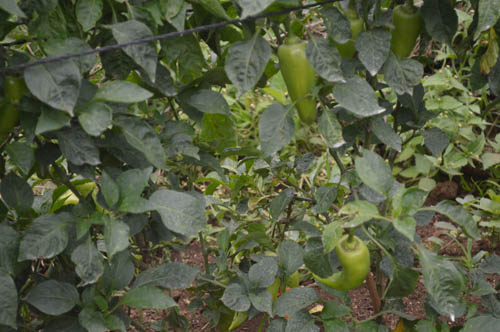ChiliPepper: (315, 239, 371, 293), (282, 42, 318, 121), (387, 8, 423, 70), (331, 18, 361, 58)
